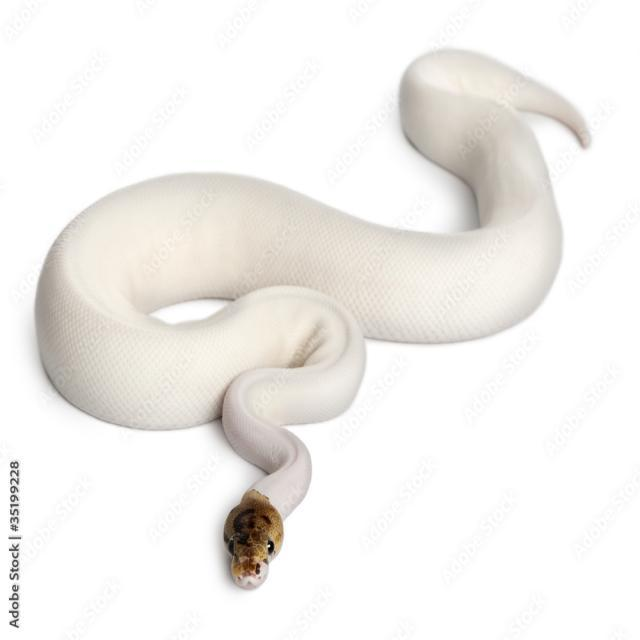Snake: (24, 20, 596, 598)
